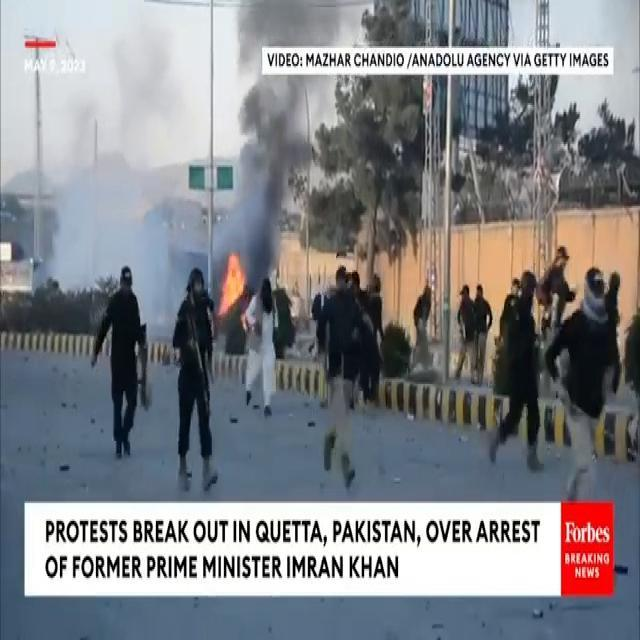Fire: (220, 244, 248, 320)
Smoke: (35, 5, 173, 290), (219, 1, 324, 275)
